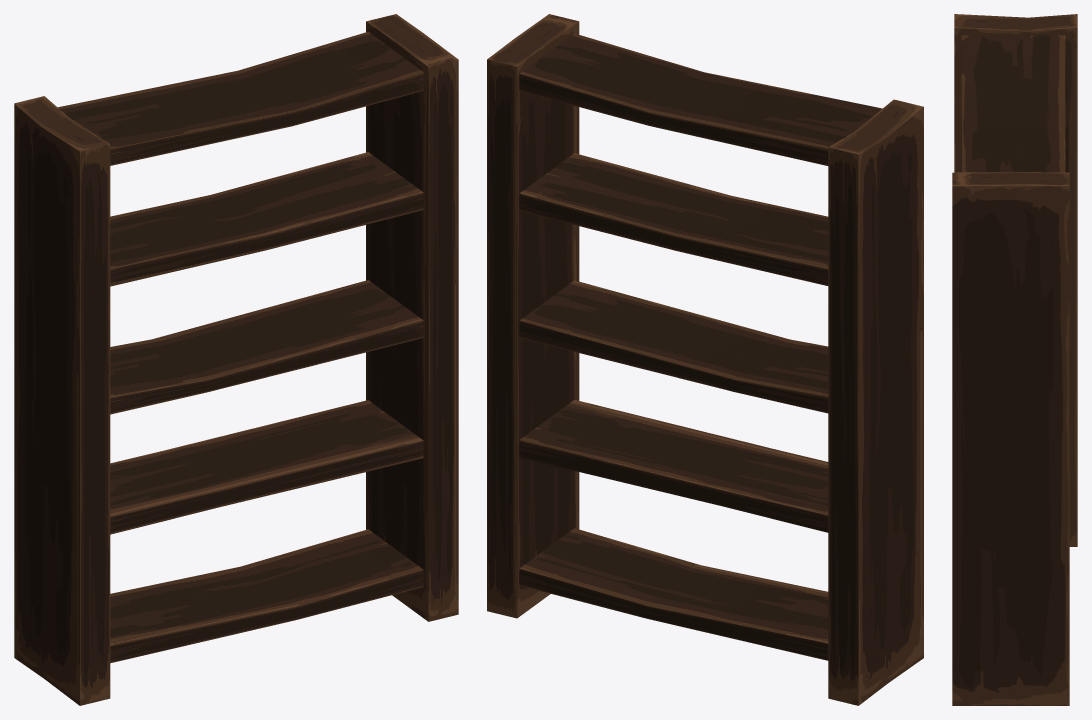
The model's file is SM_PROP_bookshelf_dungeon_03.fbx.
3 renders of one model, left to right at view 1: azimuth 30°, elevation 25°; view 2: azimuth 150°, elevation 25°; view 3: azimuth 270°, elevation 25°, orthographic. The views are drawn at different scales.
Visible parts, largest first — view 1: SM_PROP_bookshelf_dungeon_03; view 2: SM_PROP_bookshelf_dungeon_03; view 3: SM_PROP_bookshelf_dungeon_03.
Boxes of the visible parts, bbox=[...] form: SM_PROP_bookshelf_dungeon_03: bbox=[14, 14, 458, 705]; SM_PROP_bookshelf_dungeon_03: bbox=[487, 14, 923, 705]; SM_PROP_bookshelf_dungeon_03: bbox=[952, 14, 1077, 705].
Size of the model in its own units: 177 by 249 by 54.22.
